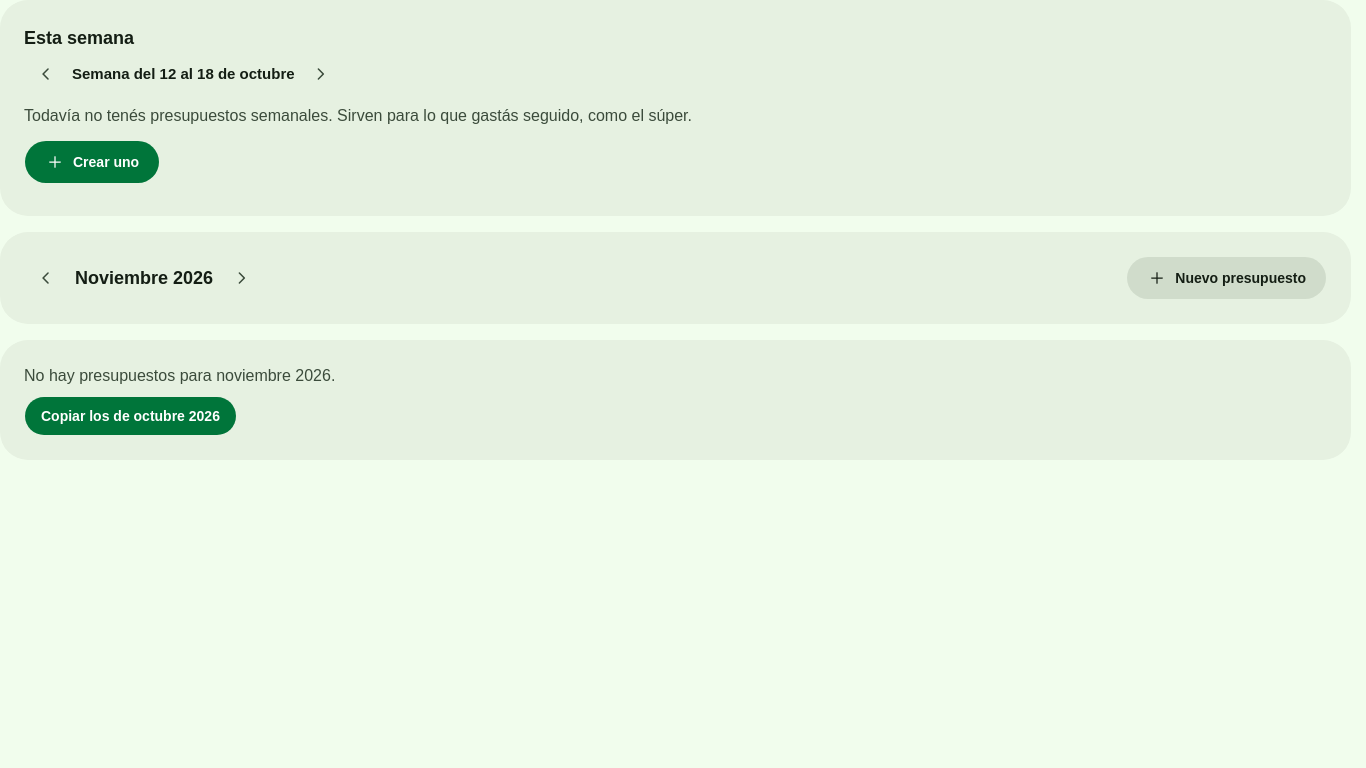
BudgetsPage › create › adds a budget to the month being viewed
The width and height of the screenshot is (1366, 768).
Click the button "Nuevo presupuesto".
click(1227, 278)  # box top-left (1126, 256), bottom-right (1327, 300)
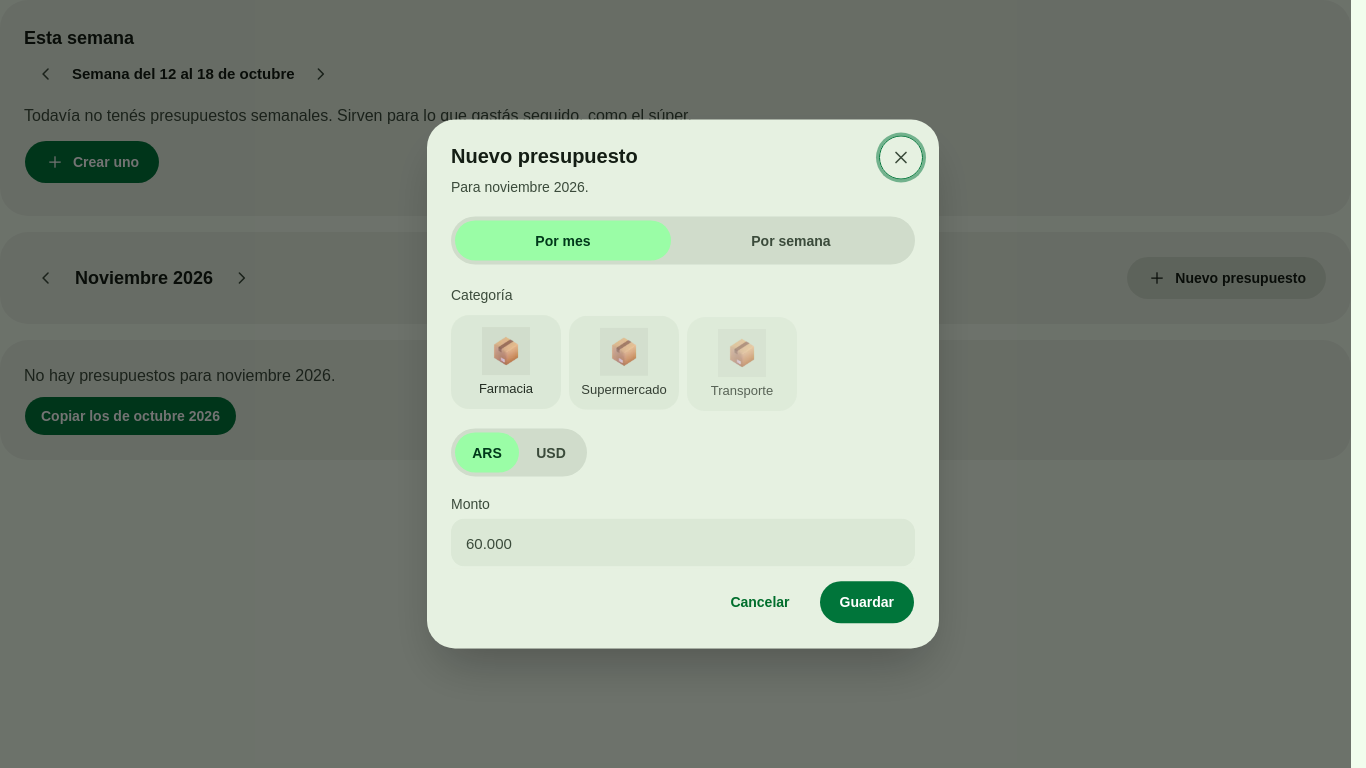
Expected: the element named "Categoría" is shown, top-left (451, 315), bottom-right (797, 411)
Expected: the dialog "Nuevo presupuesto" shows "Para noviembre 2026.", top-left (451, 178), bottom-right (589, 194)
Click the radio button labelled "Farmacia".
click(506, 362)  # box top-left (451, 315), bottom-right (561, 409)
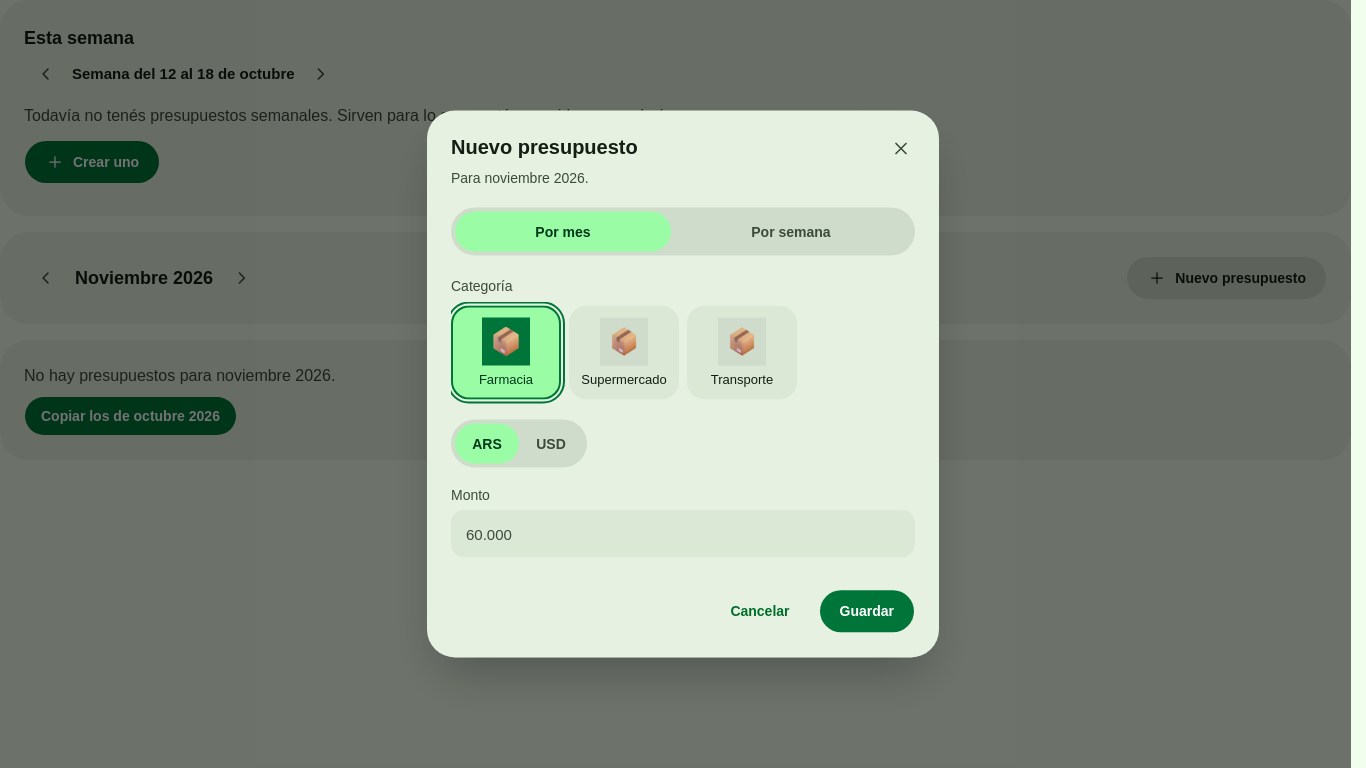
Click the radio button labelled "USD".
click(551, 444)  # box top-left (519, 424), bottom-right (583, 464)
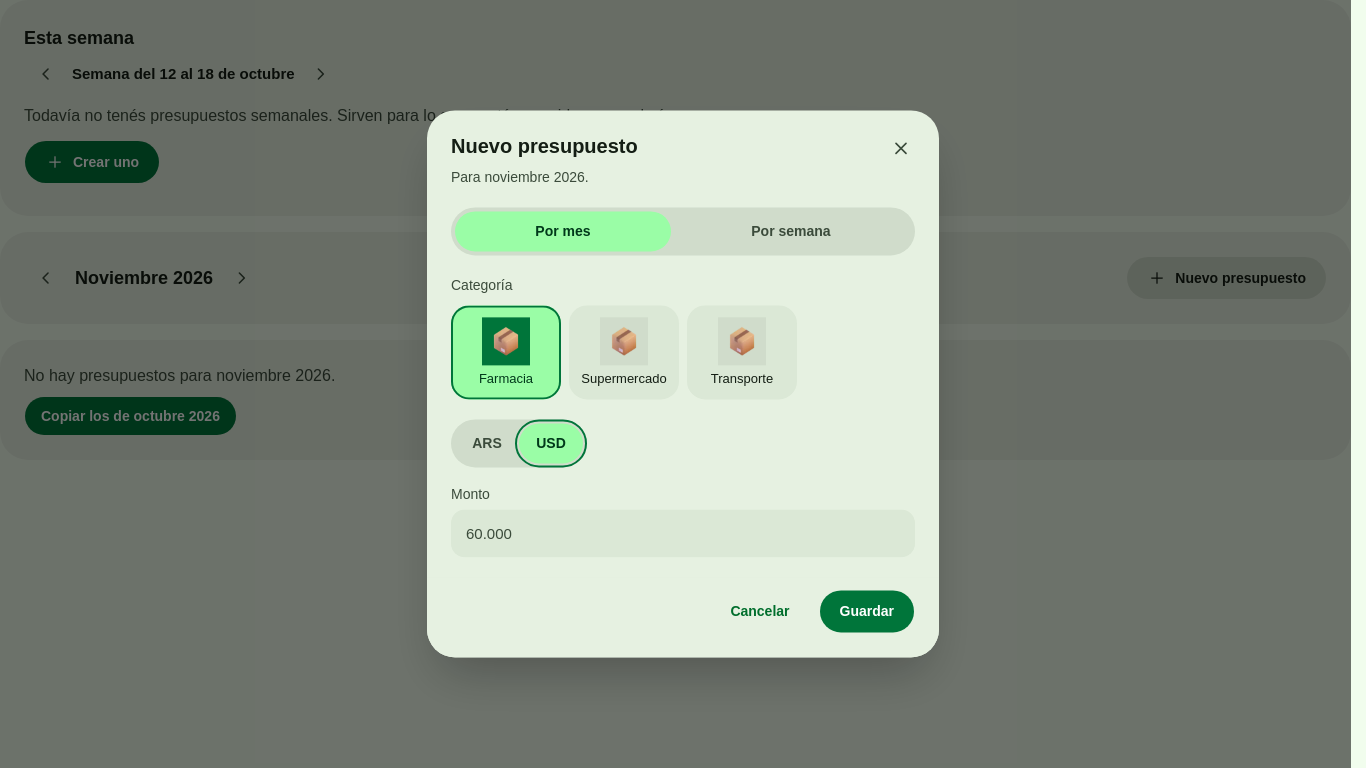
Type "50" into the field labelled "Monto".
click(683, 534); type("50")  # box top-left (451, 510), bottom-right (915, 558)
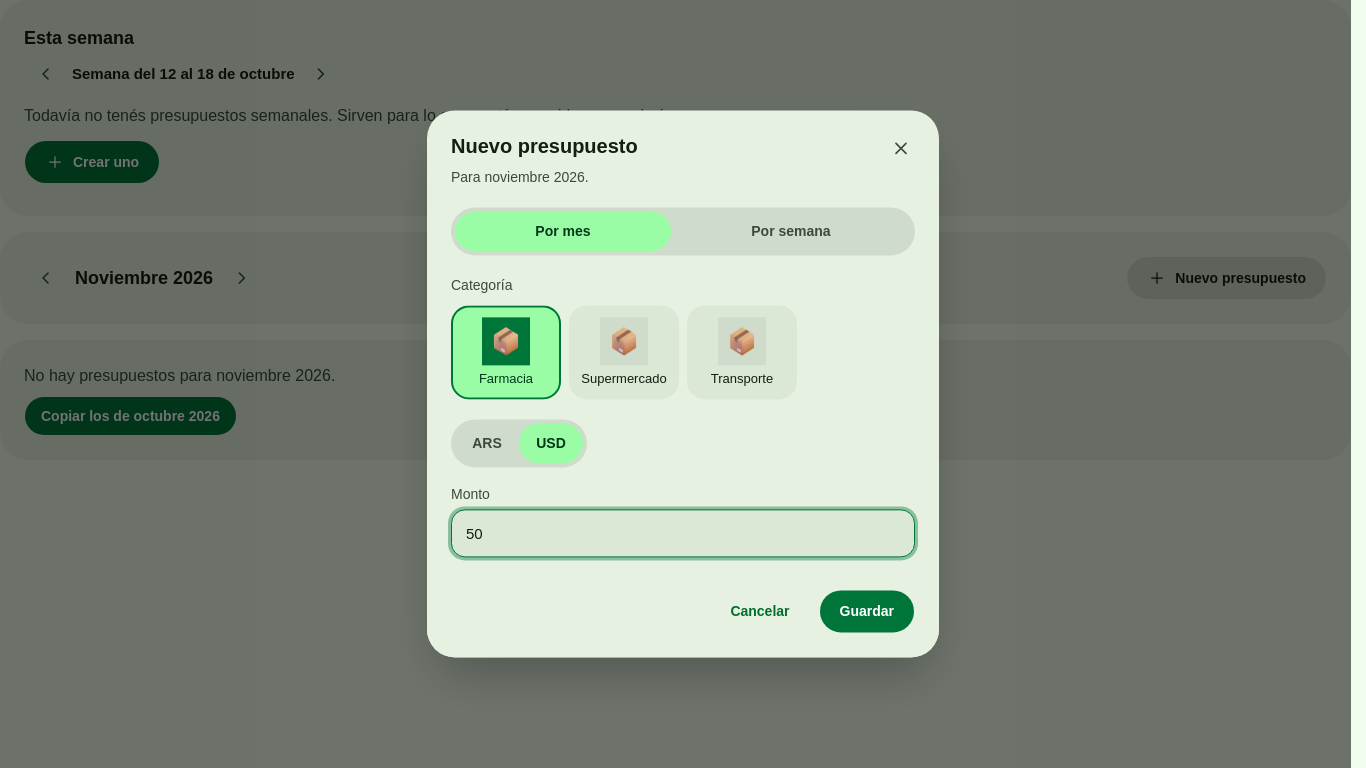
Click the button "Guardar".
click(867, 612)  # box top-left (818, 590), bottom-right (915, 634)
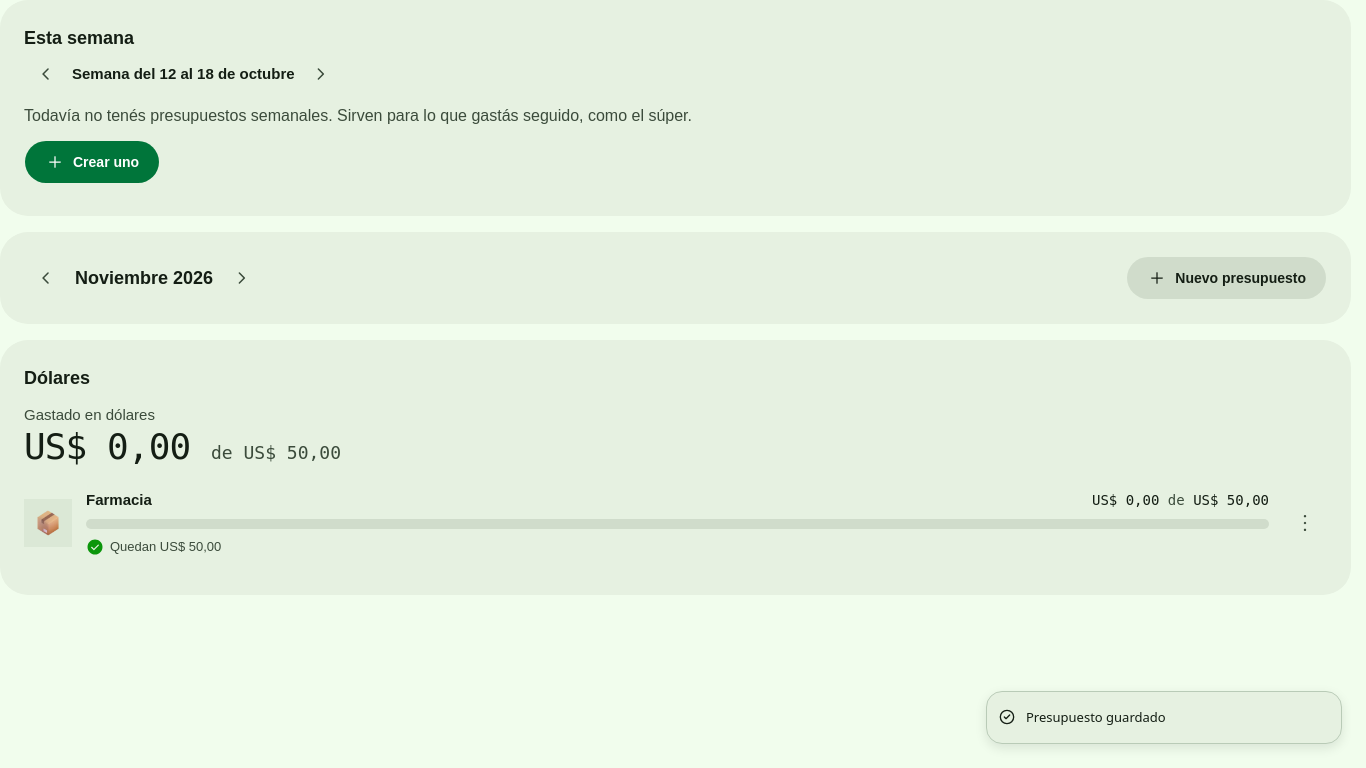
Expected: the text "Presupuesto guardado" is shown, top-left (1026, 708), bottom-right (1166, 727)
Expected: the dialog is gone
Expected: the list item "Farmacia US$ 0,00 de US$ 50,00 Quedan US$ 50,00" is shown, top-left (12, 474), bottom-right (1339, 570)
